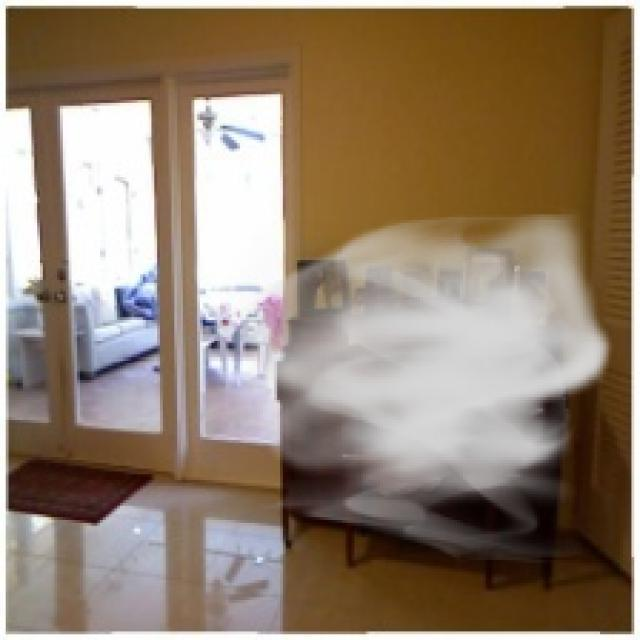Smoke: (226, 203, 614, 566)
